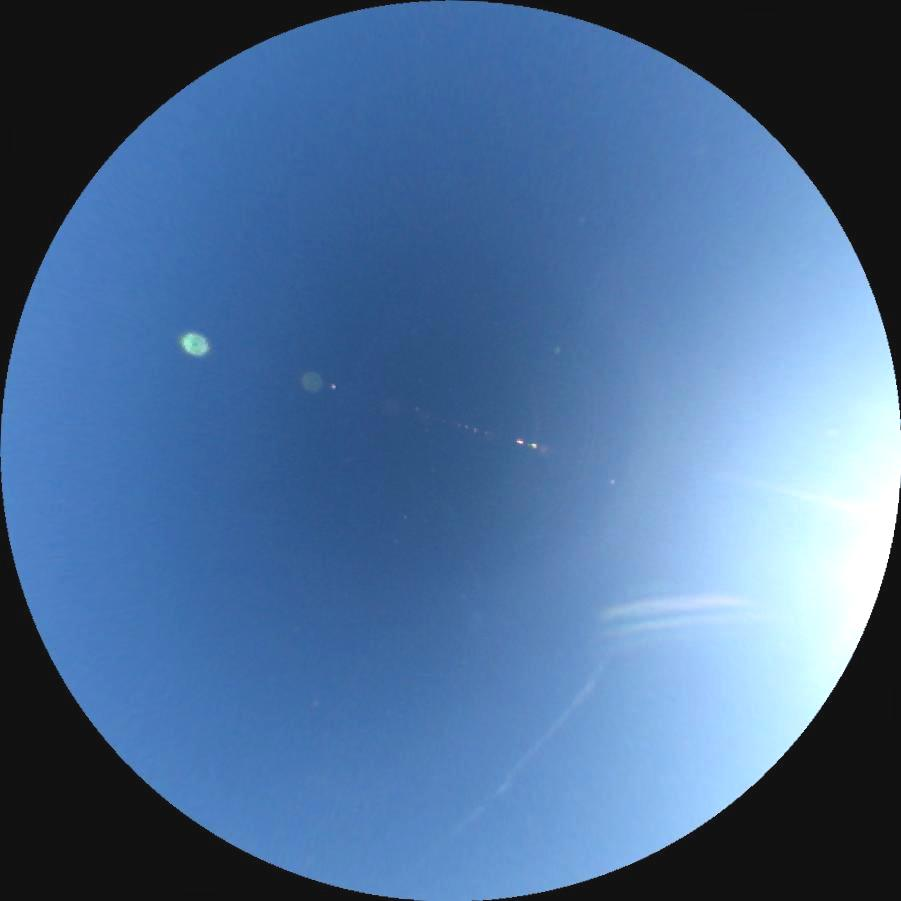contrail veryold: (447, 658, 615, 843)
parasite: (596, 589, 746, 619), (765, 480, 879, 519)
